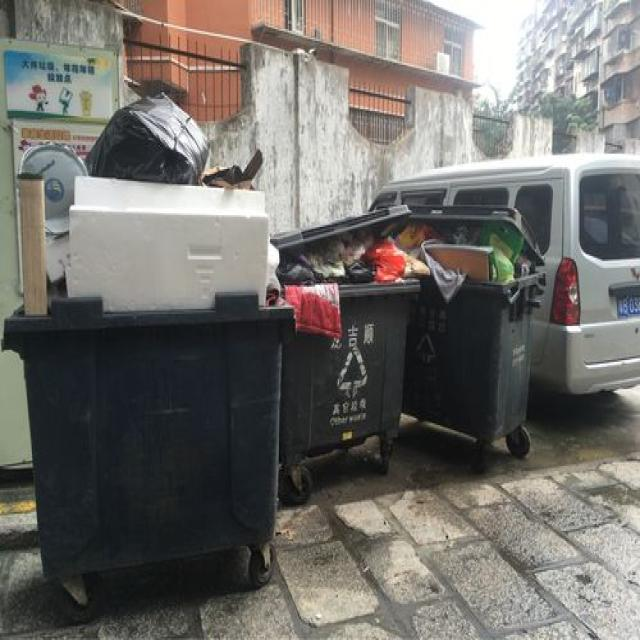overflow: (3, 89, 293, 575), (269, 205, 429, 464), (402, 203, 545, 440)
